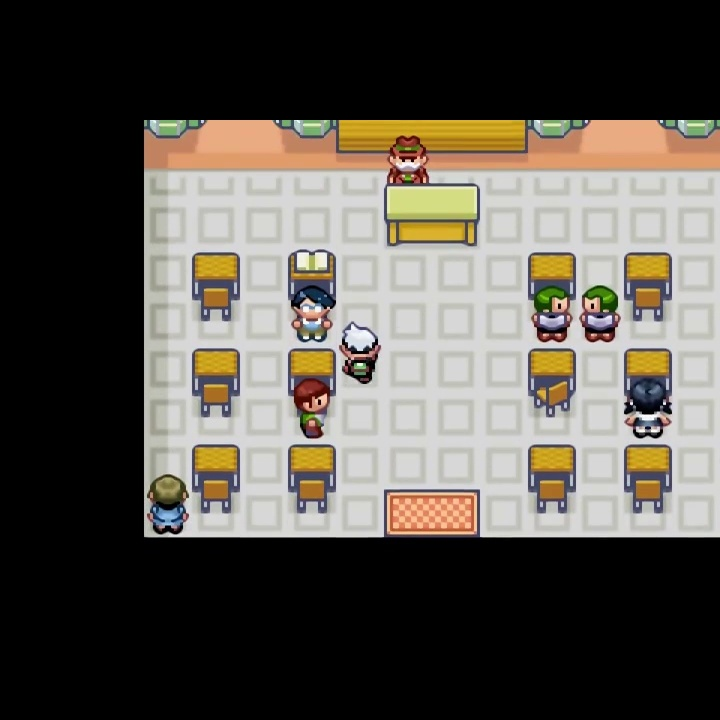agent: (338, 319, 384, 388)
exit: (381, 486, 483, 587)
npc: (621, 377, 674, 441), (290, 283, 338, 345), (145, 473, 190, 537), (579, 283, 623, 345), (530, 286, 574, 345), (384, 134, 431, 187), (293, 377, 332, 439)
